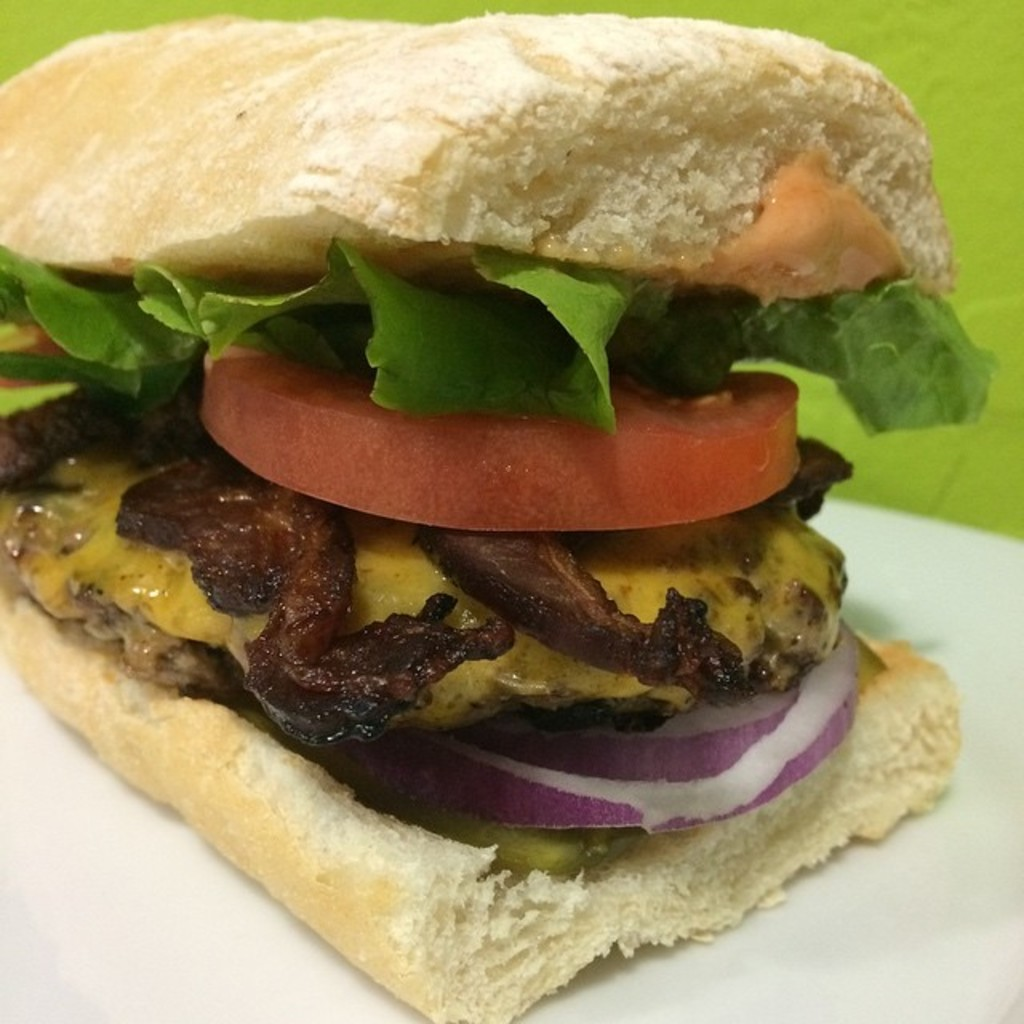Hamburger: (0, 17, 996, 1022)
